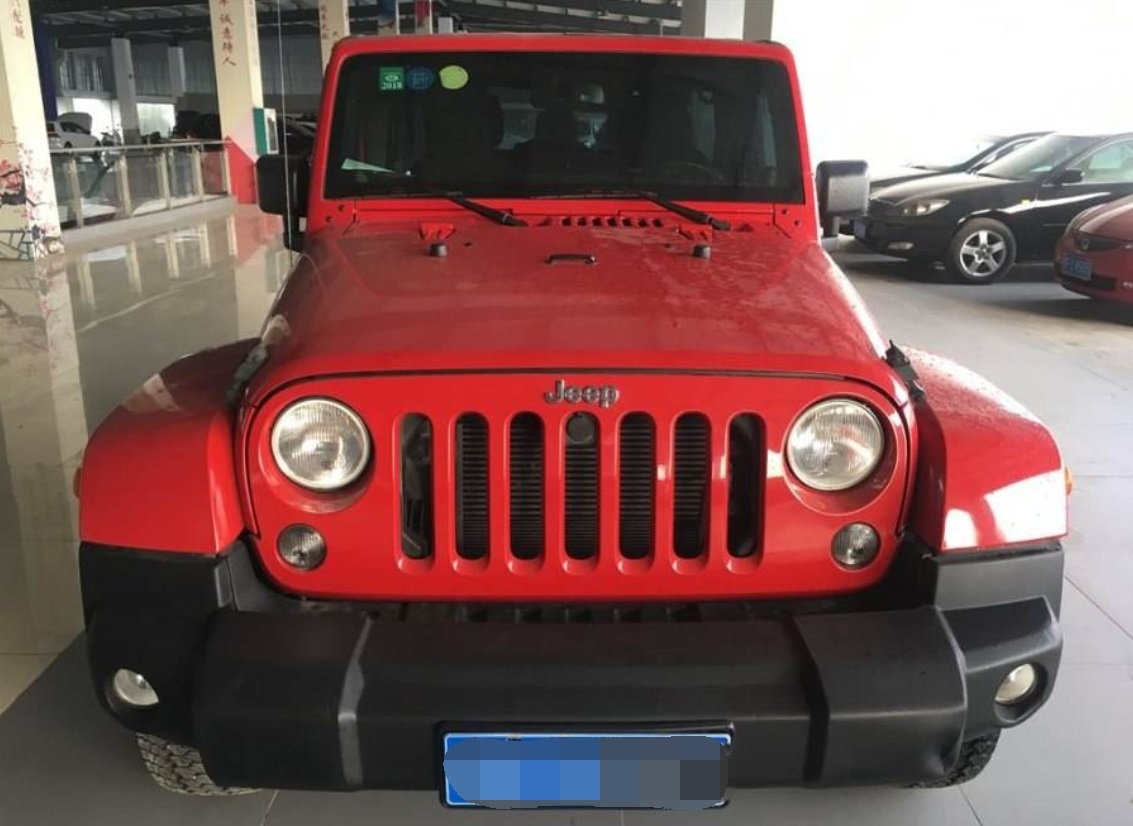jeep: (67, 24, 1074, 817)
